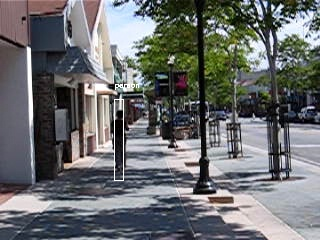person: (108, 111, 127, 174), (107, 111, 126, 174), (109, 111, 128, 174), (108, 110, 127, 173), (108, 112, 127, 175)
target_negative: (168, 106, 287, 188), (262, 78, 297, 178), (285, 130, 302, 169), (63, 142, 183, 146), (21, 184, 36, 209), (254, 217, 303, 224)
